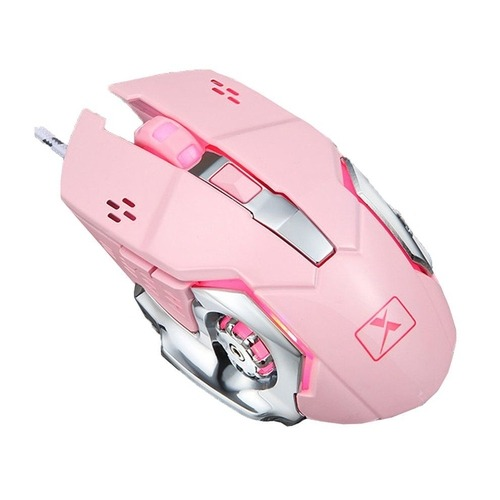mouse: (53, 61, 459, 437)
